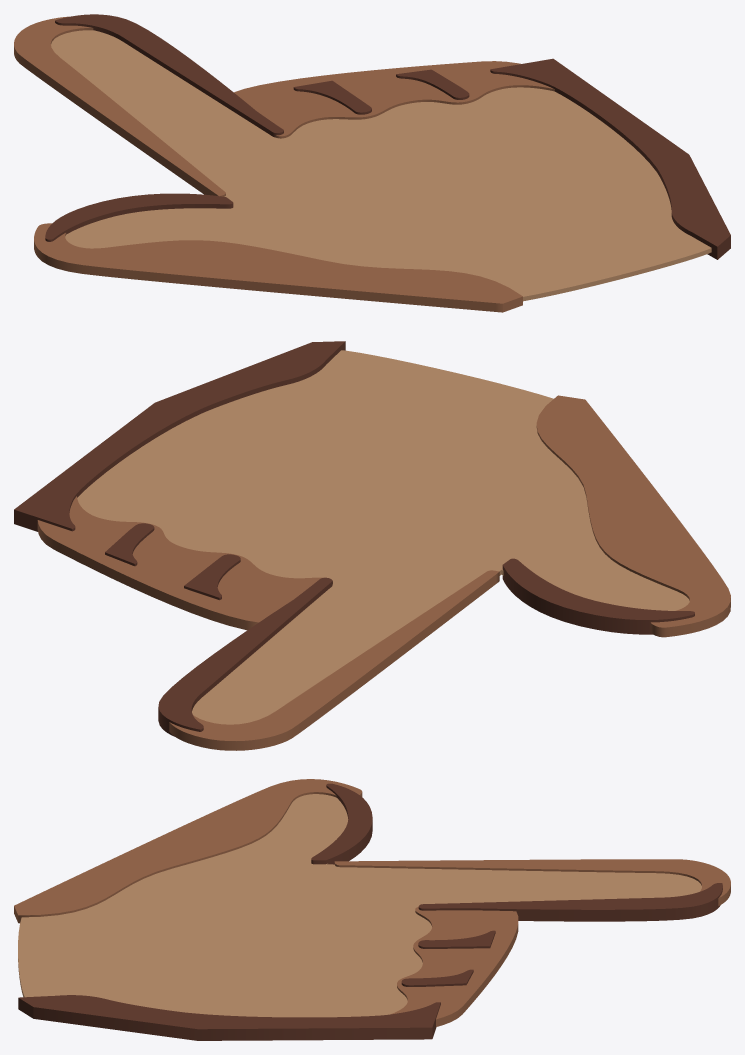
File: emoji_u1f446_1f3fd.glb
3 renders of one model, top to bottom at view 1: azimuth 30°, elevation 25°; view 2: azimuth 150°, elevation 25°; view 3: azimuth 270°, elevation 25°, orthographic. The views are drawn at different scales.
Parts seen in each view (by area): view 1: emoji_u1f446_1f3fd; view 2: emoji_u1f446_1f3fd; view 3: emoji_u1f446_1f3fd.
Boxes of the visible parts, box(x1,y1,x2,y2) form: emoji_u1f446_1f3fd: box(14, 14, 730, 312); emoji_u1f446_1f3fd: box(14, 341, 730, 750); emoji_u1f446_1f3fd: box(14, 779, 730, 1040).
Bounding box in the file's own units: 0.0276 × 0.0006 × 0.0331.
